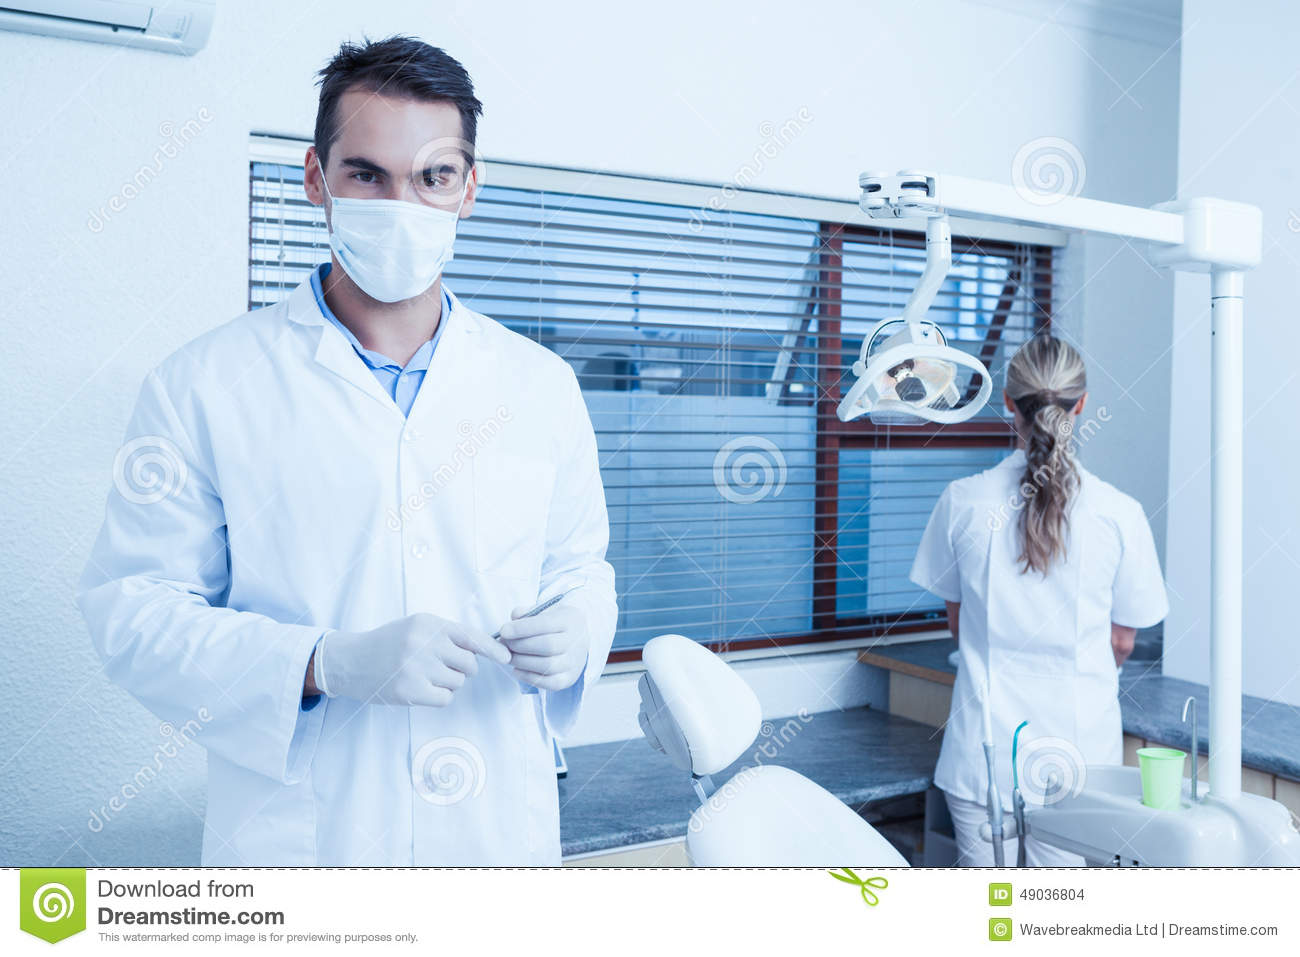mask: (322, 192, 461, 295)
